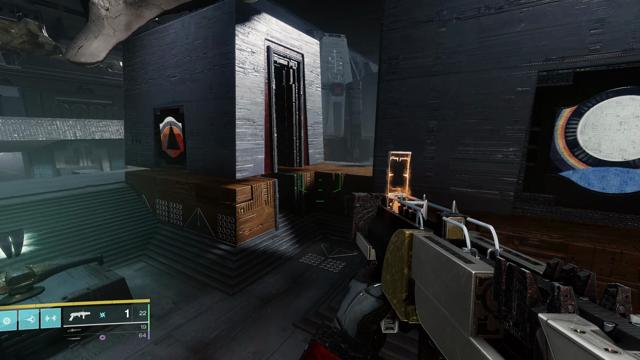pyramid: (160, 116, 184, 158)
traveler: (546, 85, 640, 194)
